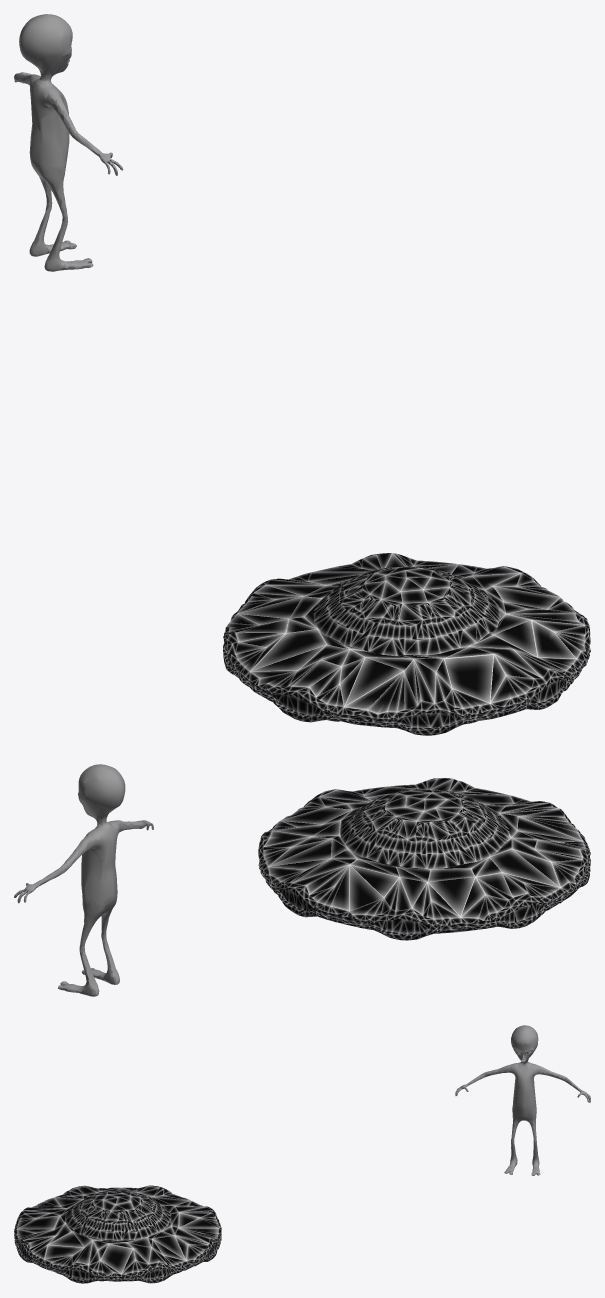
The model's file is frame_019.obj.
The picture shows the model from 3 angles, top to bottom: view 1: azimuth 30°, elevation 25°; view 2: azimuth 150°, elevation 25°; view 3: azimuth 270°, elevation 25°; orthographic projection. The views are drawn at different scales.
Visible parts, largest first — view 1: 13884_UFO_Saucer_v1_l2, 10469_GrayAlien_v01; view 2: 13884_UFO_Saucer_v1_l2, 10469_GrayAlien_v01; view 3: 13884_UFO_Saucer_v1_l2, 10469_GrayAlien_v01.
Part boxes in pixels (left/top/right/bottom): 13884_UFO_Saucer_v1_l2: left=223, top=553, right=590, bottom=735; 10469_GrayAlien_v01: left=14, top=14, right=123, bottom=271; 13884_UFO_Saucer_v1_l2: left=258, top=778, right=590, bottom=940; 10469_GrayAlien_v01: left=14, top=764, right=153, bottom=996; 13884_UFO_Saucer_v1_l2: left=14, top=1185, right=221, bottom=1283; 10469_GrayAlien_v01: left=455, top=1025, right=590, bottom=1175.
Size of the model in its own units: 12.69 by 16.32 by 35.24.
